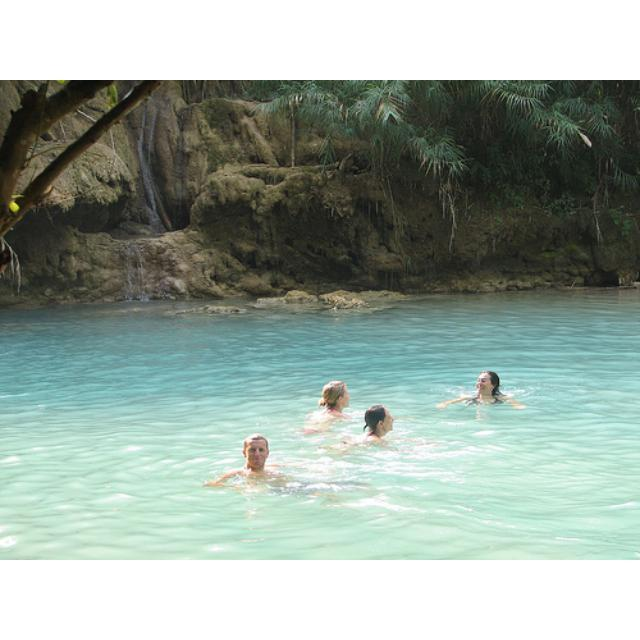human: (205, 439, 293, 492), (439, 373, 517, 407), (309, 382, 352, 426), (354, 404, 394, 442)
